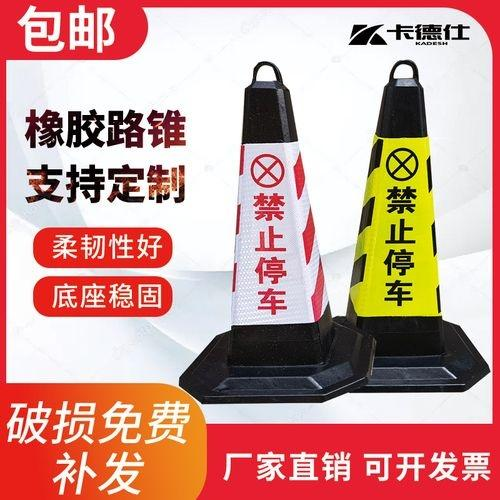cone_barrel: (205, 69, 345, 394), (338, 71, 471, 378)
